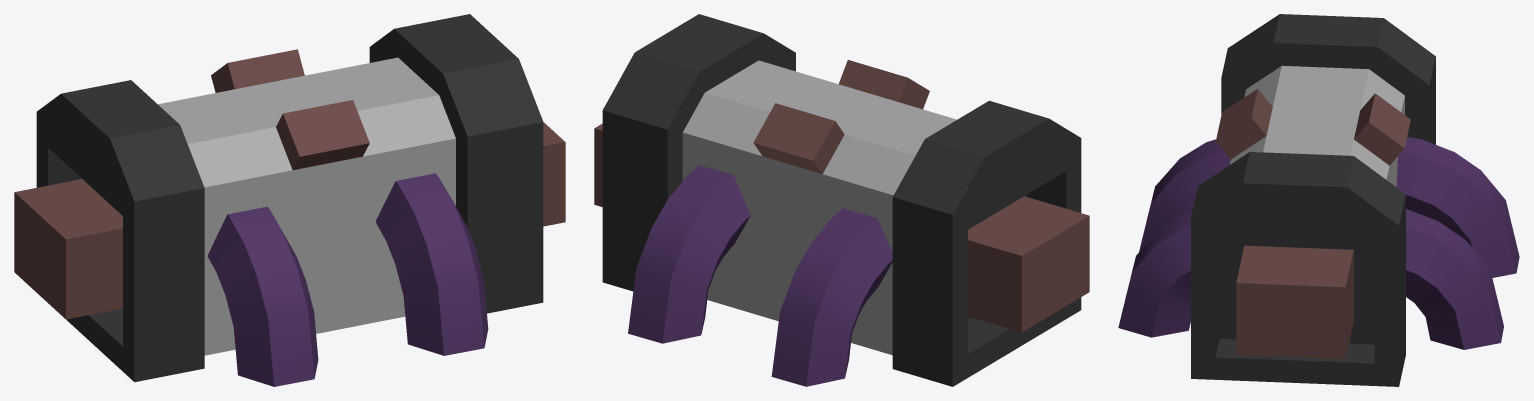
Rendered from Maquina.fbx.
3 views of the same model, side by side, from view 1: azimuth 30°, elevation 25°; view 2: azimuth 150°, elevation 25°; view 3: azimuth 270°, elevation 25° (orthographic). The views are drawn at different scales.
Parts seen in each view (by area): view 1: Level05_Generator08; view 2: Level05_Generator08; view 3: Level05_Generator08.
Part boxes in pixels (x1=…): Level05_Generator08: x1=14, y1=14, x2=565, y2=386; Level05_Generator08: x1=594, y1=14, x2=1089, y2=386; Level05_Generator08: x1=1118, y1=14, x2=1519, y2=386.
Size of the model in its own units: 161 by 70.48 by 130.
